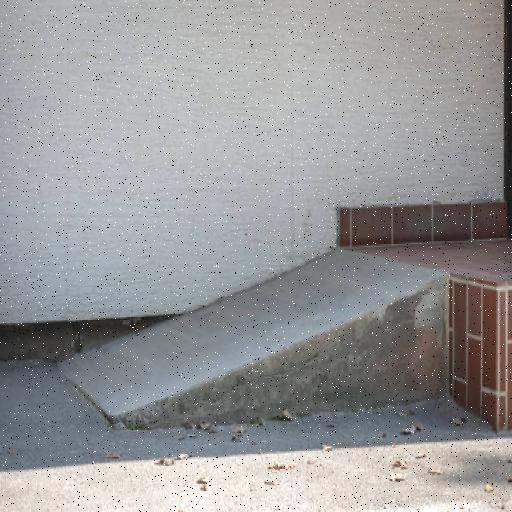ramp: (56, 248, 450, 428)
